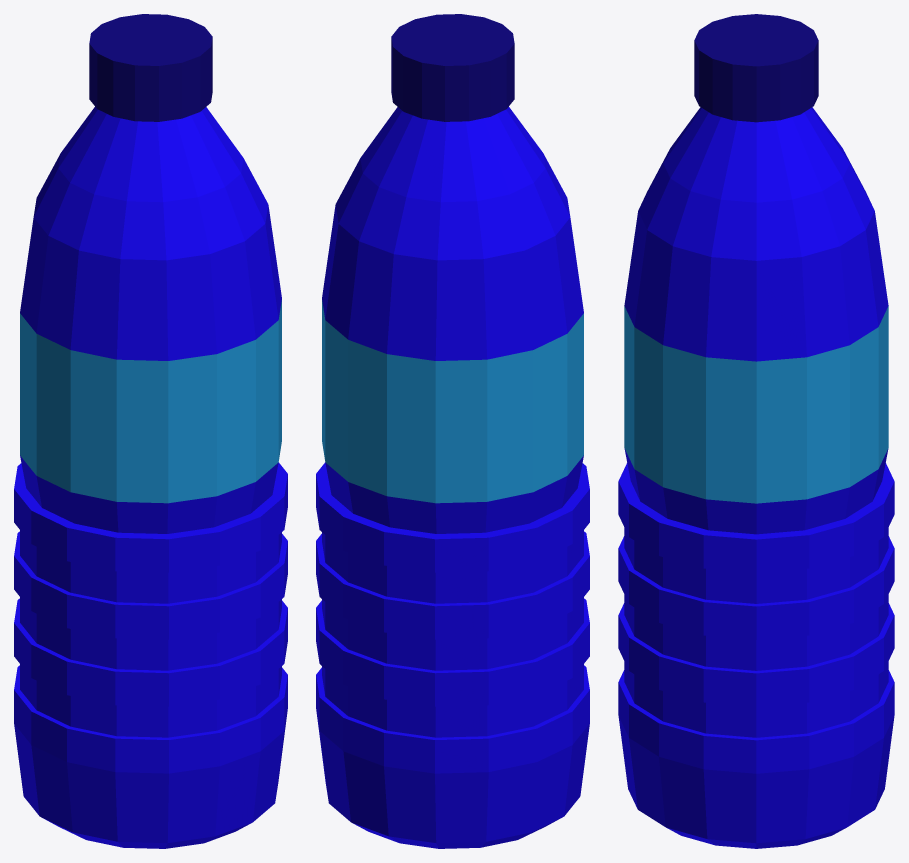
The model's file is waterbottle.fbx.
The picture shows the model from 3 angles, left to right: view 1: azimuth 30°, elevation 25°; view 2: azimuth 150°, elevation 25°; view 3: azimuth 270°, elevation 25°; orthographic projection.
Visible parts, largest first — view 1: WaterBottle; view 2: WaterBottle; view 3: WaterBottle.
Part boxes in pixels (x1,y1,x2,y2): WaterBottle: (14, 14, 287, 848); WaterBottle: (316, 14, 589, 848); WaterBottle: (618, 14, 894, 848).
Size of the model in its own units: 5.22 by 15.95 by 5.22.
